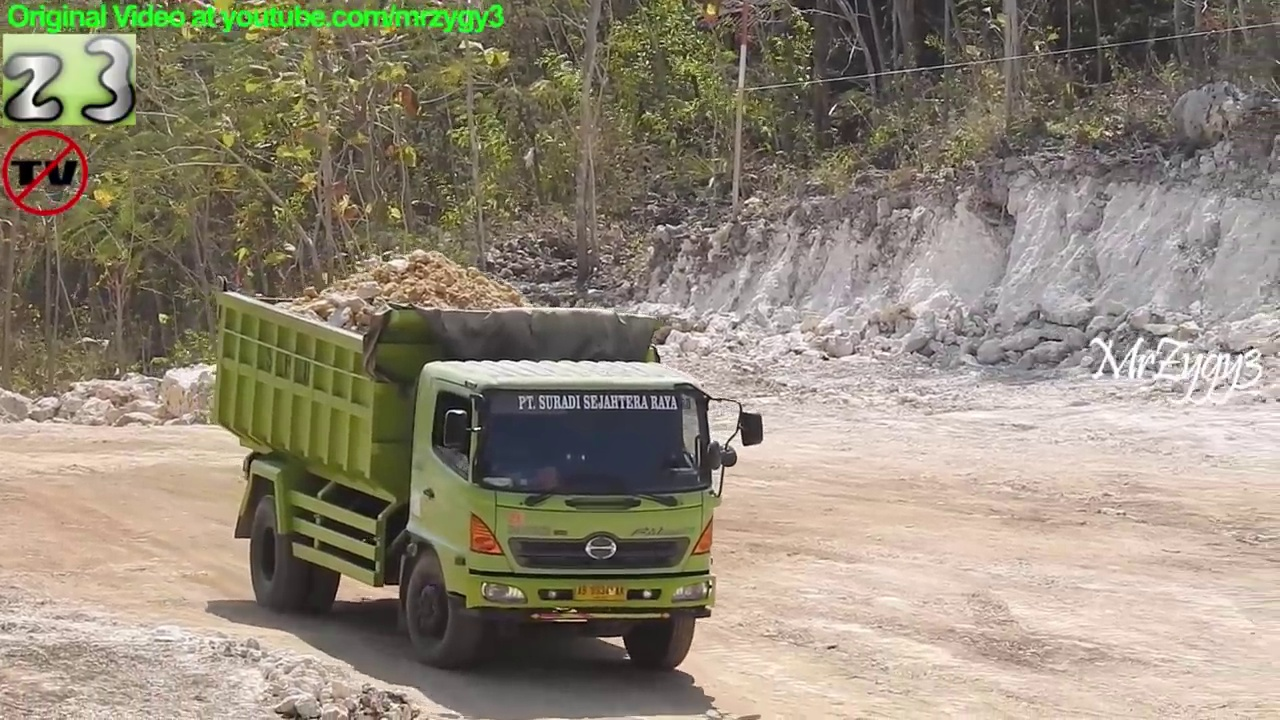truck: (206, 268, 771, 674)
